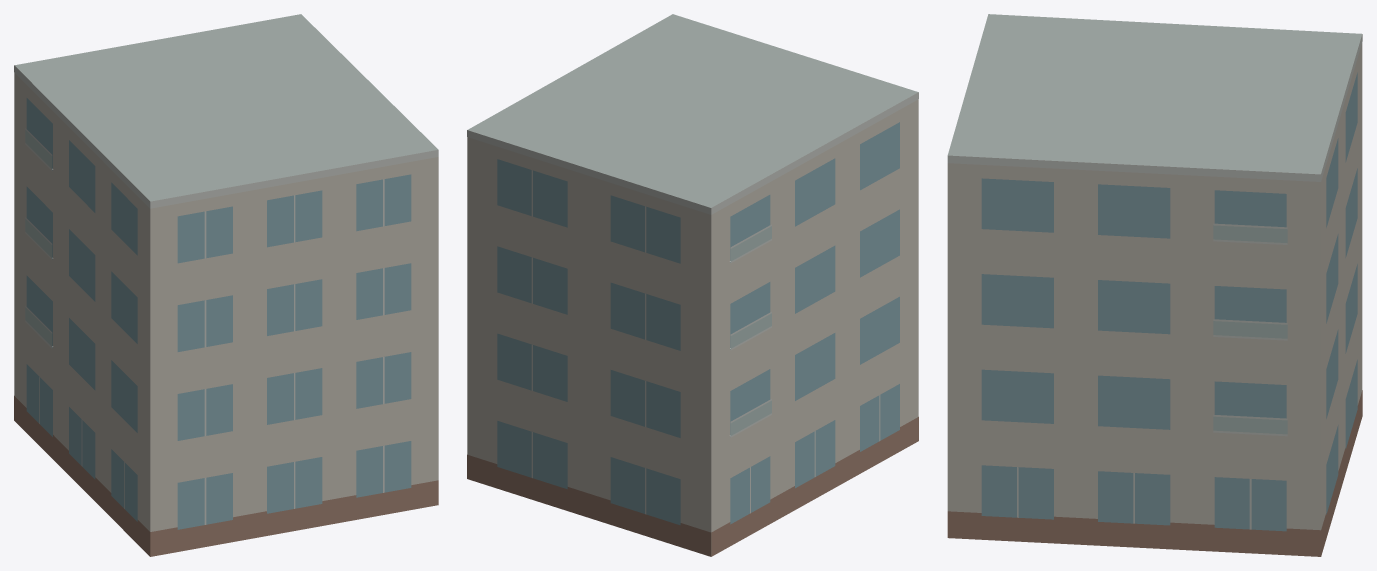
File: survey-upis-32802832.glb
The picture shows the model from 3 angles, left to right: view 1: azimuth 30°, elevation 25°; view 2: azimuth 150°, elevation 25°; view 3: azimuth 270°, elevation 25°; orthographic projection. The views are drawn at different scales.
Visible parts, largest first — view 1: survey-upis-32802832.tmp; view 2: survey-upis-32802832.tmp; view 3: survey-upis-32802832.tmp.
Part boxes in pixels (box(x1,y1,x2,y2)): survey-upis-32802832.tmp: box(14, 14, 438, 556); survey-upis-32802832.tmp: box(467, 14, 918, 556); survey-upis-32802832.tmp: box(947, 14, 1362, 556).
Size of the model in its own units: 10.98 by 12.2 by 12.
